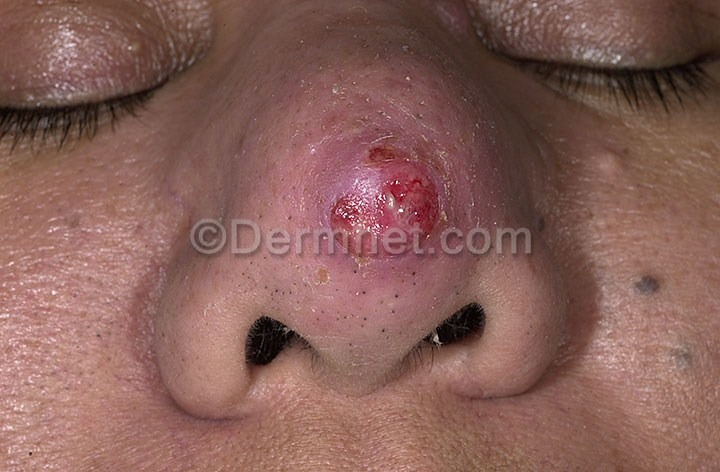Acne: (289, 121, 474, 286)
